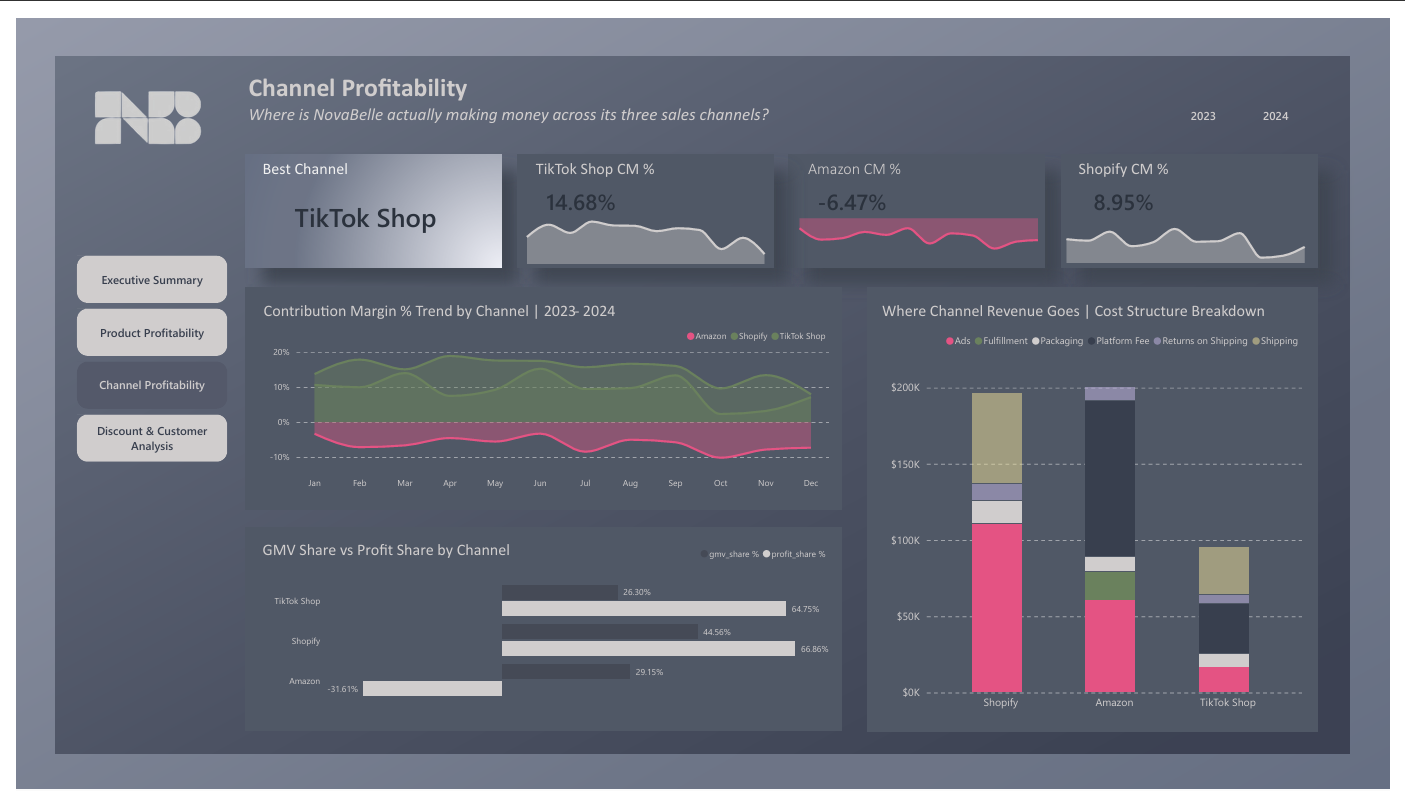

Layout of this report page (visuals, bound fields, positions):
{"tool":"powerbi","page":{"name":"Channel Profitability","canvas":[1920,1080],"ordinal":2},"visuals":[{"type":"areaChart","fields":{"Category":["dim_date.month_name"],"Y":["all_measures.cm %"],"Series":["dim_channels.channel_name"]},"box":[338.4,415.6,813.1,263.5],"z":0},{"type":"clusteredBarChart","fields":{"Category":["dim_channels.channel_name"],"Y":["all_measures.gmv_share %","all_measures.profit_share %"]},"box":[338.4,720,813.1,268],"z":1000},{"type":"columnChart","fields":{"Category":["dim_channels.channel_name"],"Y":["all_measures.ad_spend","all_measures.fulfillment_cost","all_measures.packaging","all_measures.platform_fee","all_measures.return_shipping","all_measures.shipping_cost"]},"box":[1206.1,422.5,606.4,565.6],"z":2000},{"type":"pageNavigator","box":[85.4,331.8,209.8,290.3],"z":3000},{"type":"cardVisual","fields":{"Data":["all_measures.best_channel"]},"box":[356.6,236.2,263.5,79.5],"z":4000},{"type":"advancedSlicerVisual","fields":{"Values":["dim_date.year"]},"box":[1612.6,115.8,195.3,43.2],"z":5000},{"type":"areaChart","fields":{"Category":["dim_date.month_name"],"Y":["all_measures.tiktok_cm %"]},"box":[701.8,256.7,356.6,86.3],"z":6000},{"type":"areaChart","fields":{"Category":["dim_date.month_name"],"Y":["all_measures.amazon_cm %"]},"box":[1083.4,256.7,356.6,86.3],"z":7000},{"type":"areaChart","fields":{"Category":["dim_date.month_name"],"Y":["all_measures.shopify_cm %"]},"box":[1455.9,256.7,356.6,86.3],"z":8000},{"type":"cardVisual","fields":{"Data":["all_measures.tiktok_cm %"]},"box":[724.5,231.7,129.5,45.4],"z":9000},{"type":"cardVisual","fields":{"Data":["all_measures.shopify_cm %"]},"box":[1483.2,231.7,129.5,45.4],"z":10000},{"type":"cardVisual","fields":{"Data":["all_measures.amazon_cm %"]},"box":[1103.9,231.7,129.5,45.4],"z":11000}]}

Visuals, with their boxes in screenshot pixels (x1, y1, x2, y2), scaled from the page's 1920x1080 canvas onto the 1405x808 screenshot:
areaChart - dim_date.month_name x all_measures.cm %: [248, 311, 843, 508]
clusteredBarChart - dim_channels.channel_name x all_measures.gmv_share %: [248, 539, 843, 739]
columnChart - dim_channels.channel_name x all_measures.ad_spend: [883, 316, 1326, 739]
pageNavigator: [62, 248, 216, 465]
cardVisual - all_measures.best_channel: [261, 177, 454, 236]
advancedSlicerVisual - dim_date.year: [1180, 87, 1323, 119]
areaChart - dim_date.month_name x all_measures.tiktok_cm %: [514, 192, 775, 257]
areaChart - dim_date.month_name x all_measures.amazon_cm %: [793, 192, 1054, 257]
areaChart - dim_date.month_name x all_measures.shopify_cm %: [1065, 192, 1326, 257]
cardVisual - all_measures.tiktok_cm %: [530, 173, 625, 207]
cardVisual - all_measures.shopify_cm %: [1085, 173, 1180, 207]
cardVisual - all_measures.amazon_cm %: [808, 173, 903, 207]
